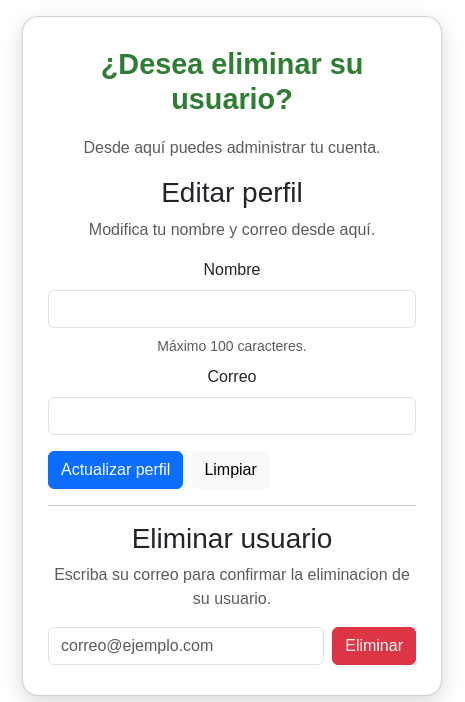
Scenario: Ajustes page › muestra mensaje cuando el correo a eliminar no coincide con la sesión
The width and height of the screenshot is (465, 702).
Type "otro@condor.cl" into the field with placeholder "correo@ejemplo.com". click: coordinates (186, 646)
box: [48, 627, 324, 665]
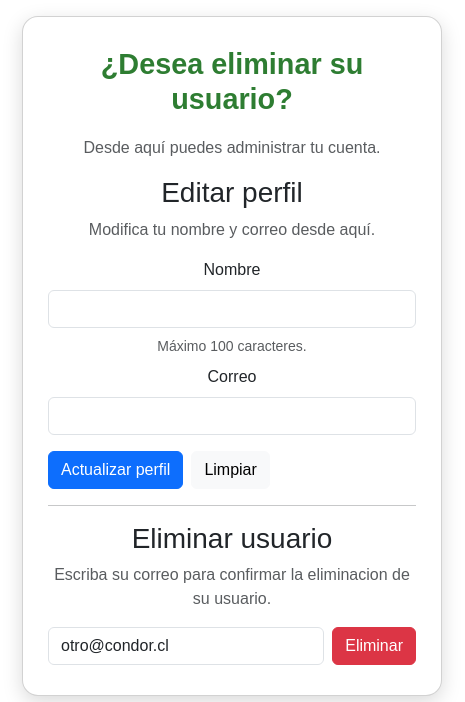
Click the button "Eliminar". click: coordinates (374, 646)
box: [332, 627, 416, 665]
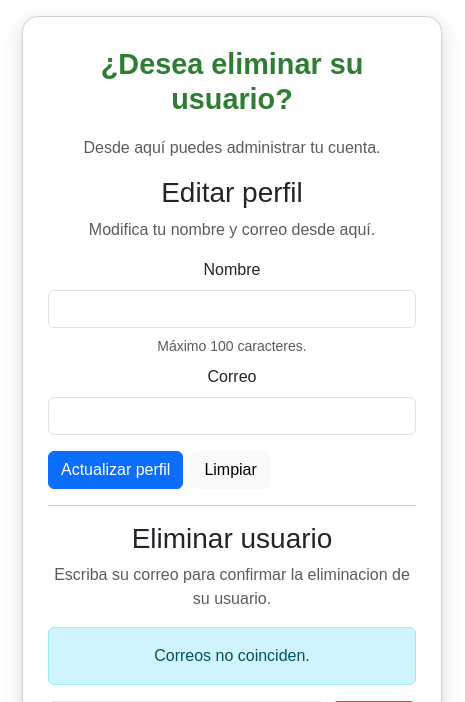
Now the text "Correos no coinciden." is shown, box [48, 627, 416, 685]
